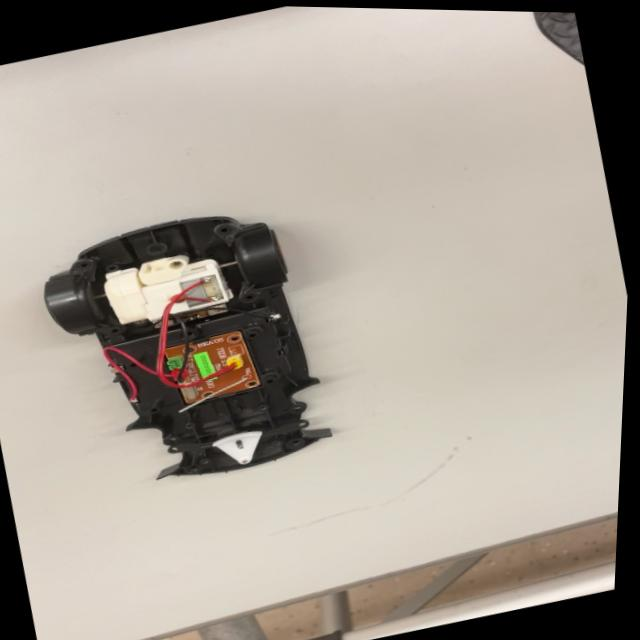Chassis: (44, 196, 340, 510)
